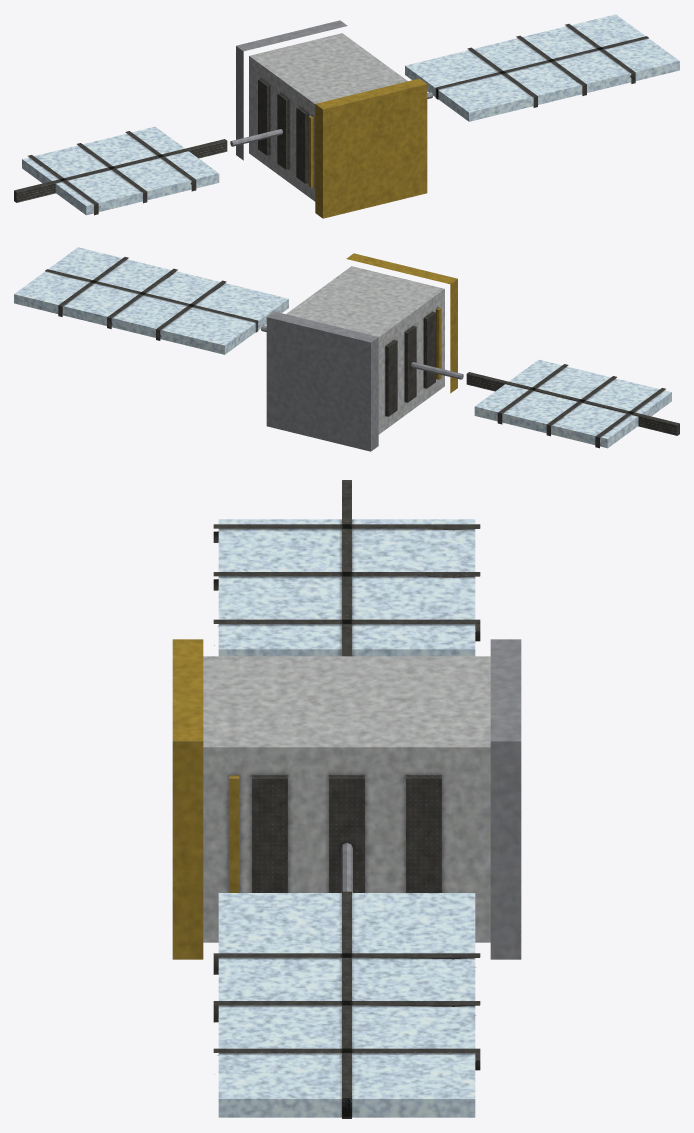
File: sd_prop_sat1.glb
3 views of the same model, one above another, from view 1: azimuth 30°, elevation 25°; view 2: azimuth 150°, elevation 25°; view 3: azimuth 270°, elevation 25° (orthographic). The views are drawn at different scales.
Visible parts, largest first — view 1: LOD0_body; view 2: LOD0_body; view 3: LOD0_body, LOD1_body.
Boxes of the visible parts, left/top/right/bottom form: LOD0_body: left=14, top=14, right=679, bottom=218; LOD0_body: left=14, top=247, right=679, bottom=451; LOD0_body: left=172, top=480, right=521, bottom=1118; LOD1_body: left=213, top=528, right=480, bottom=1074.
Size of the model in its own units: 1 by 0.1649 by 0.2386.
1 material, 1 textured.
